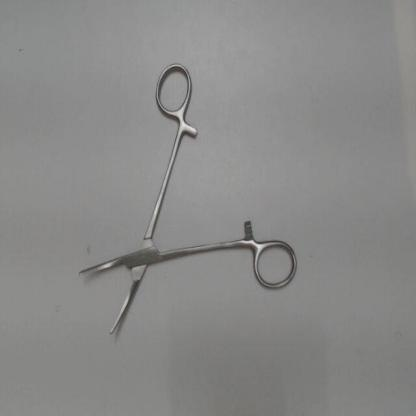Crile Artery Forceps: (67, 54, 302, 348)
